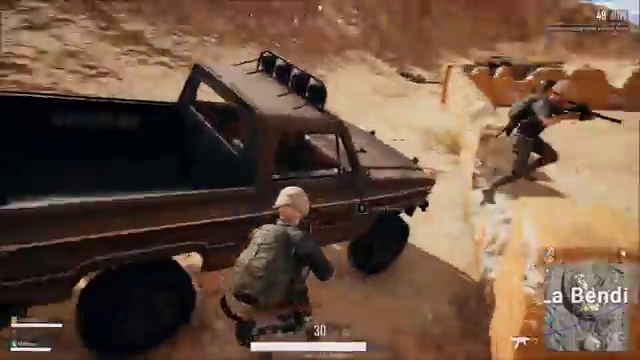Player: (483, 69, 627, 208), (229, 186, 361, 322)
